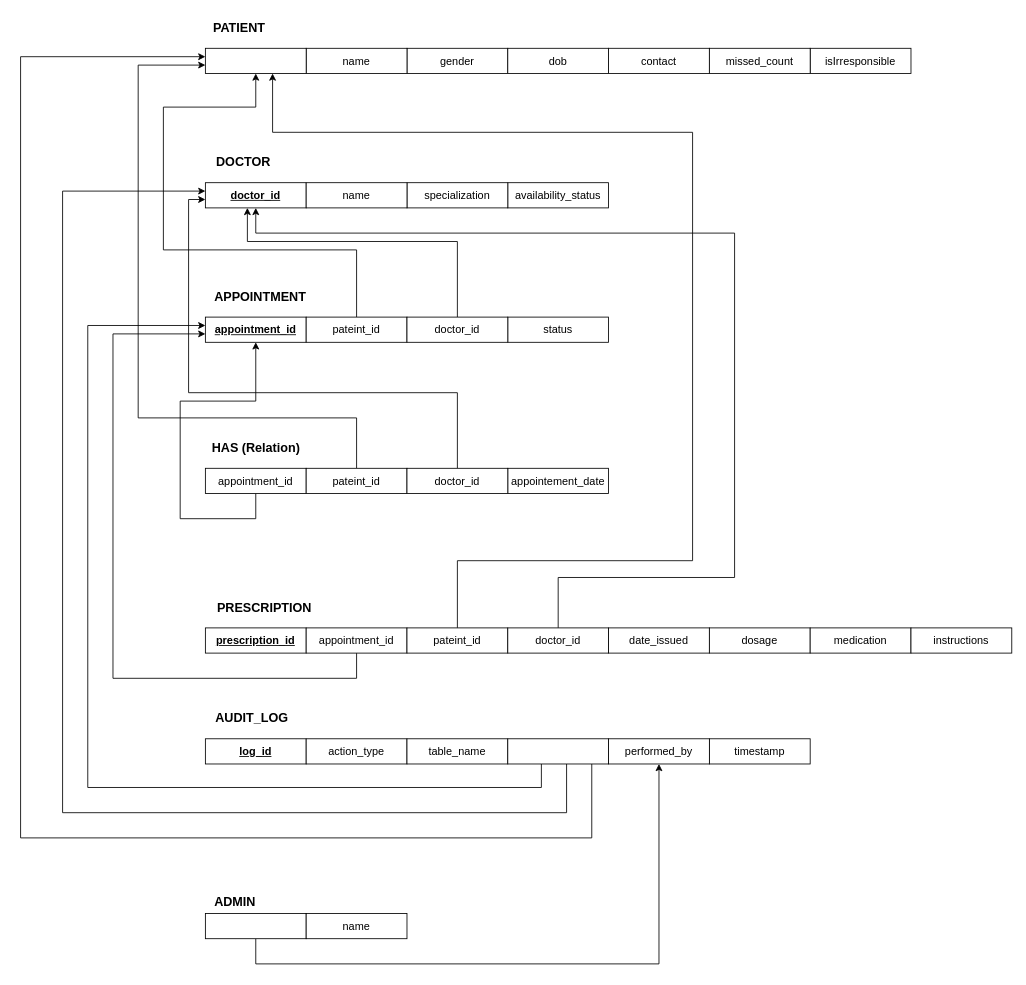
Some shapes in this 1026 by 985 pixel diagram are drawn without their labels. Each missing label, with the box of its shape:
account _id: (205, 913, 306, 939)
entity_id: (507, 738, 609, 764)
patient_id: (205, 47, 306, 74)
